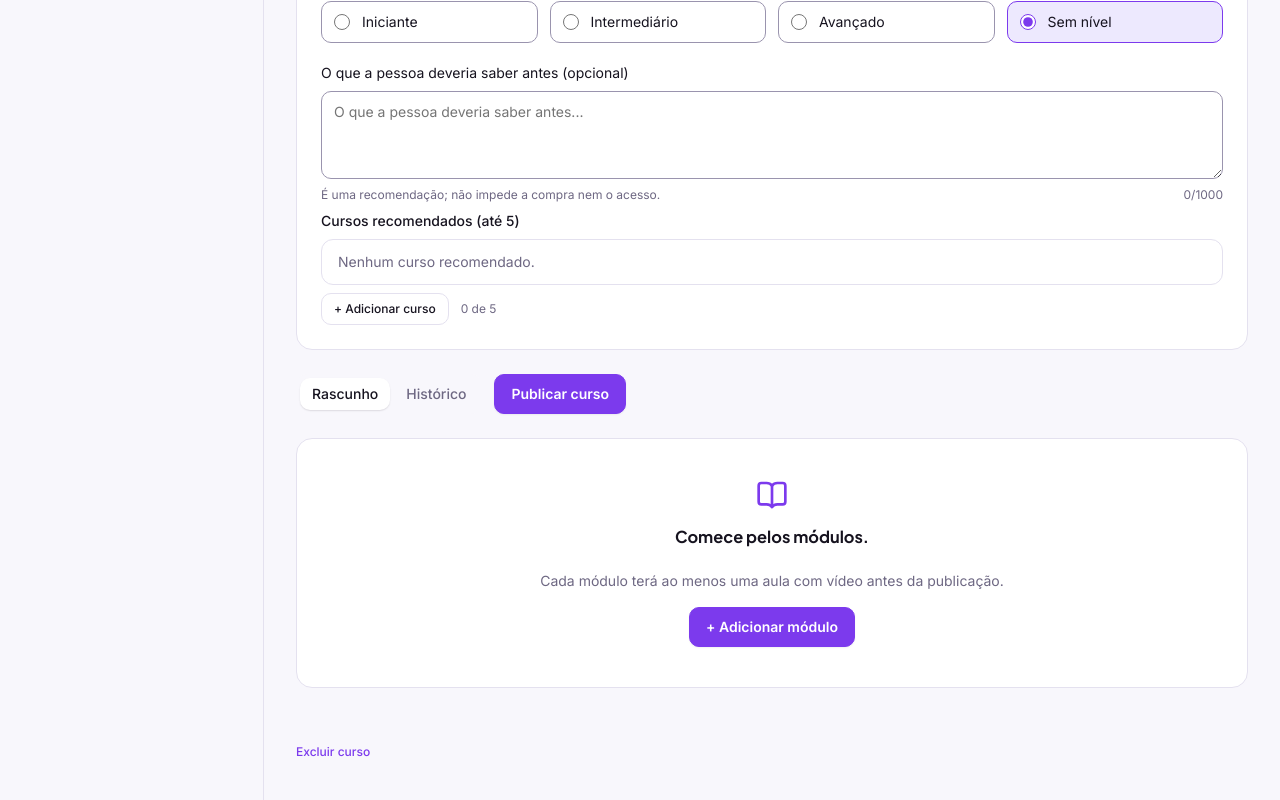
Test: authoring deletion › failure keeps confirmation and explicit retry uses the same intention
(page scrolled)
What coordinates should you click on to do the following:
click the button "Excluir curso"
I would click on:
 (333, 752)
Its box is [296, 736, 370, 768].
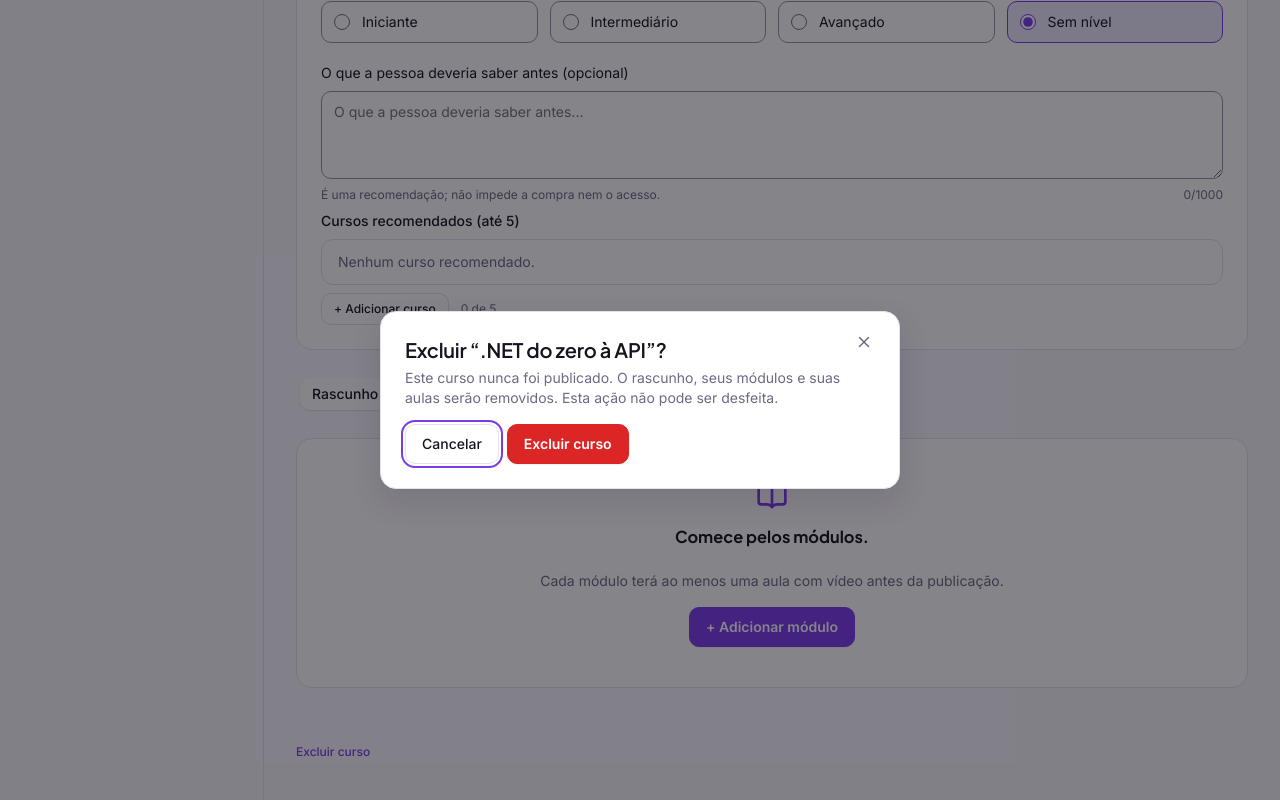
What coordinates should you click on to do the following:
click the button "Excluir curso" below "Excluir “.NET do zero à API”?"
I would click on:
 (568, 444)
Its box is [507, 424, 629, 464].
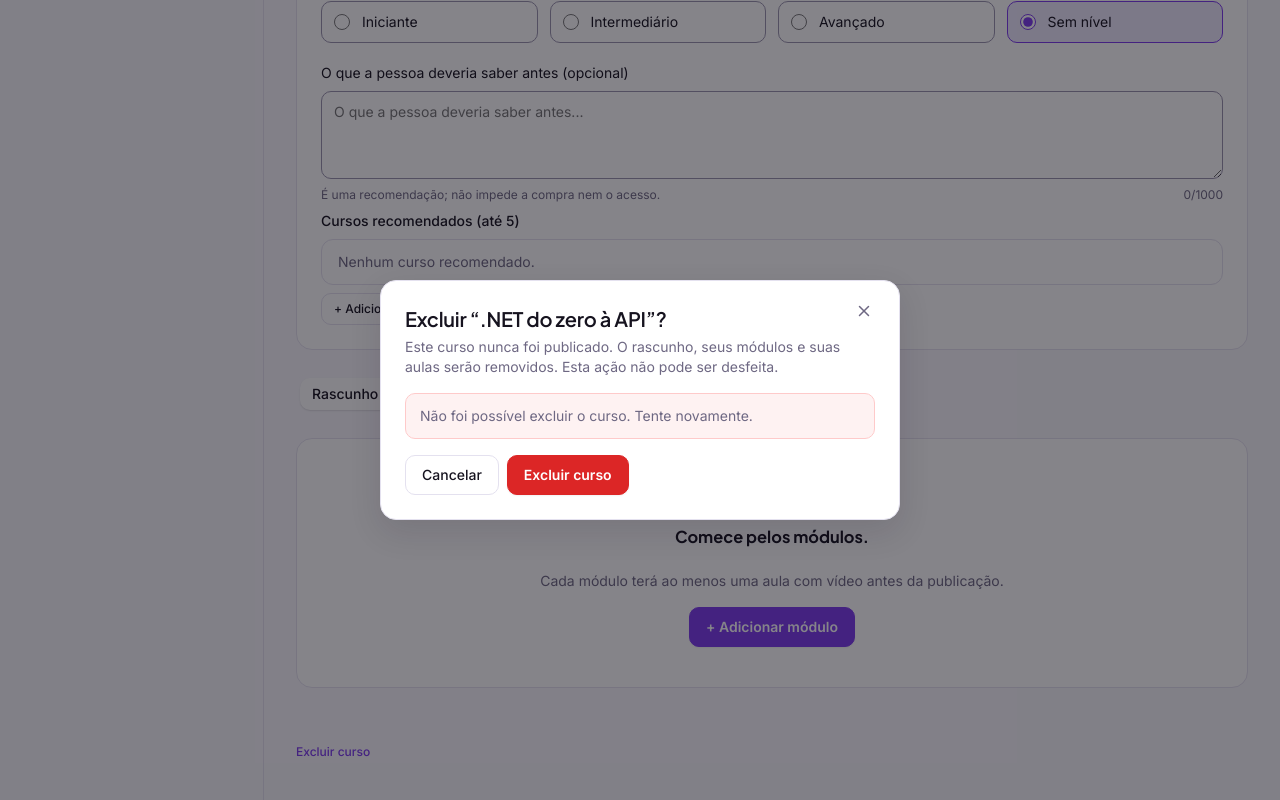
Now the text "Não foi possível excluir o curso. Tente novamente." is shown, box [405, 393, 875, 439]
What coordinates should you click on to do the following:
click the button "Excluir curso" below "Excluir “.NET do zero à API”?"
I would click on:
 (568, 475)
Its box is [507, 455, 629, 495].
(page scrolled)
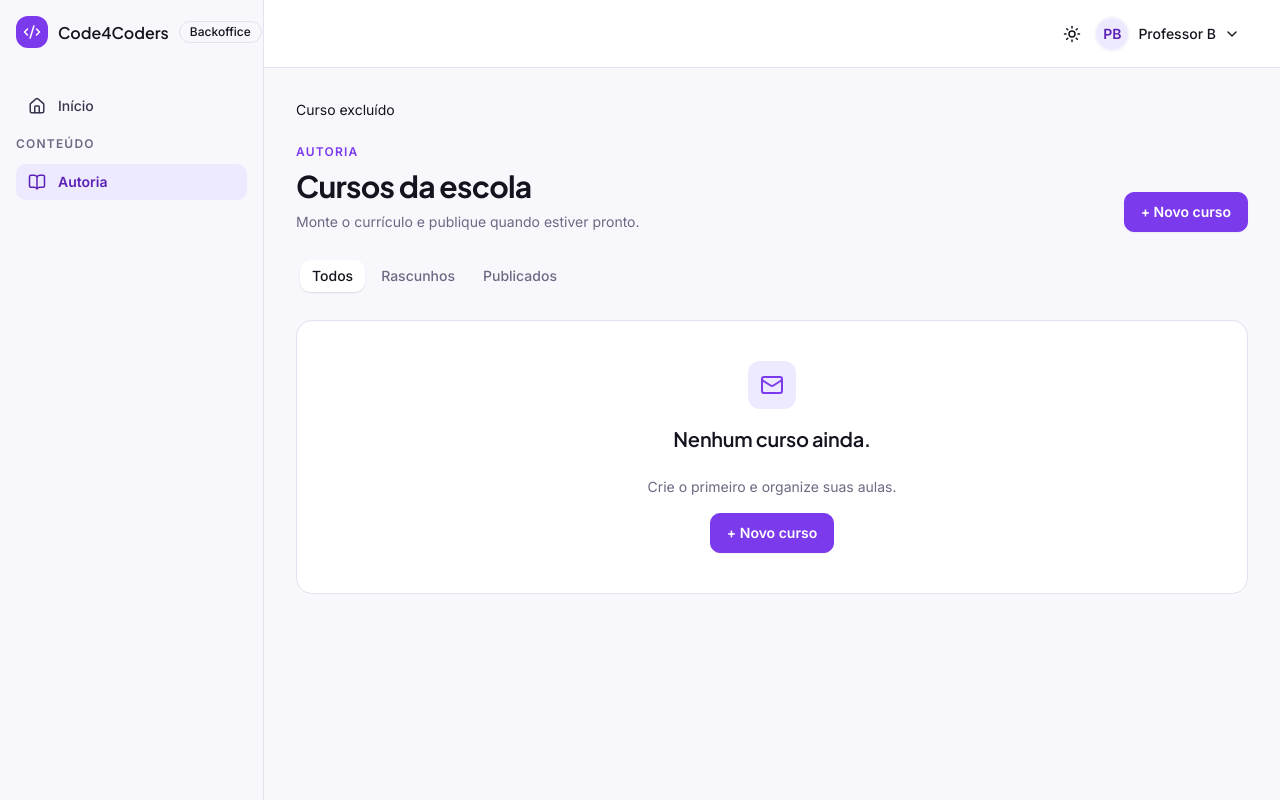
Now the text "Curso excluído" is shown, box [296, 101, 395, 118]
